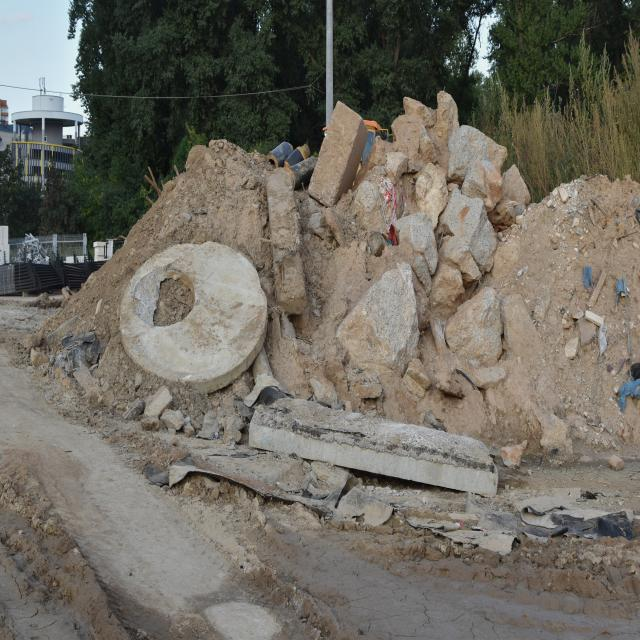entulho: (241, 399, 500, 500), (114, 232, 274, 390), (308, 100, 366, 208), (264, 169, 306, 307), (349, 158, 406, 244), (436, 188, 490, 278), (452, 126, 507, 201), (393, 211, 438, 283), (391, 104, 438, 170), (405, 160, 452, 226), (2, 264, 63, 294), (53, 262, 88, 286), (81, 258, 105, 276)
terra: (495, 169, 639, 338), (124, 132, 266, 283)
